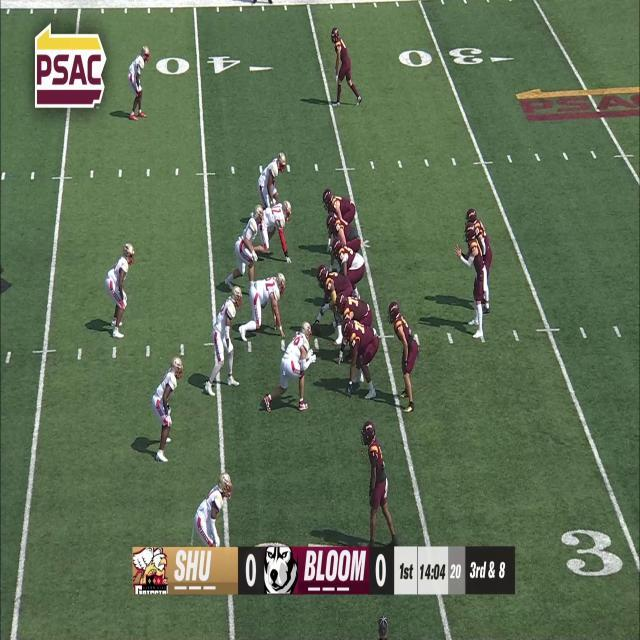football: (310, 319, 321, 336)
